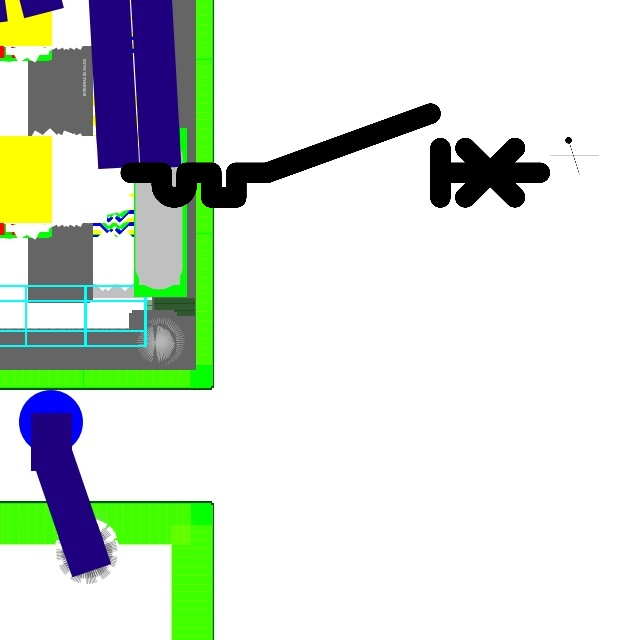interruptor_termomagnetico: (120, 103, 550, 208)
